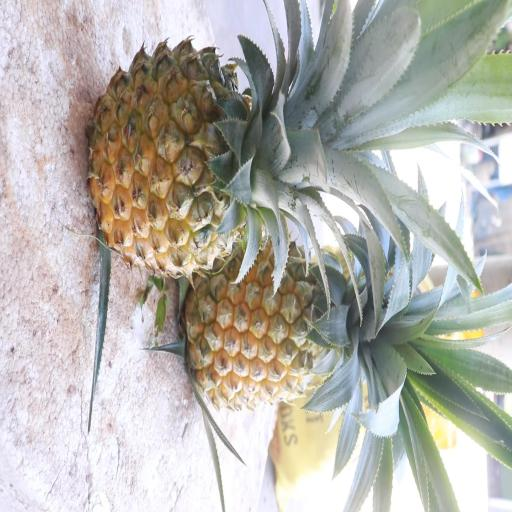Pineapple - v8 v1: (85, 31, 332, 285), (179, 227, 392, 419)
